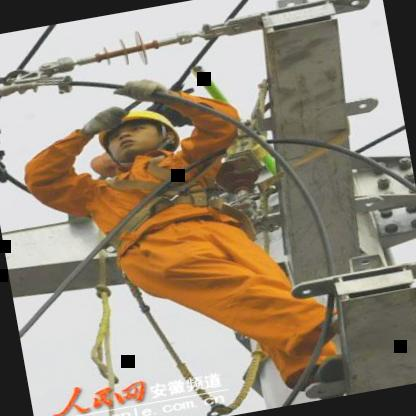helmet: (81, 90, 200, 170)
